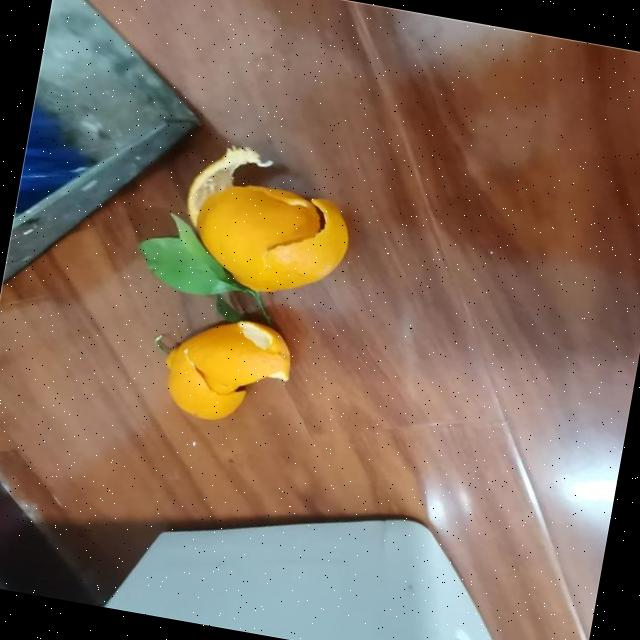orange-peel: (186, 172, 356, 304), (156, 306, 298, 432)
